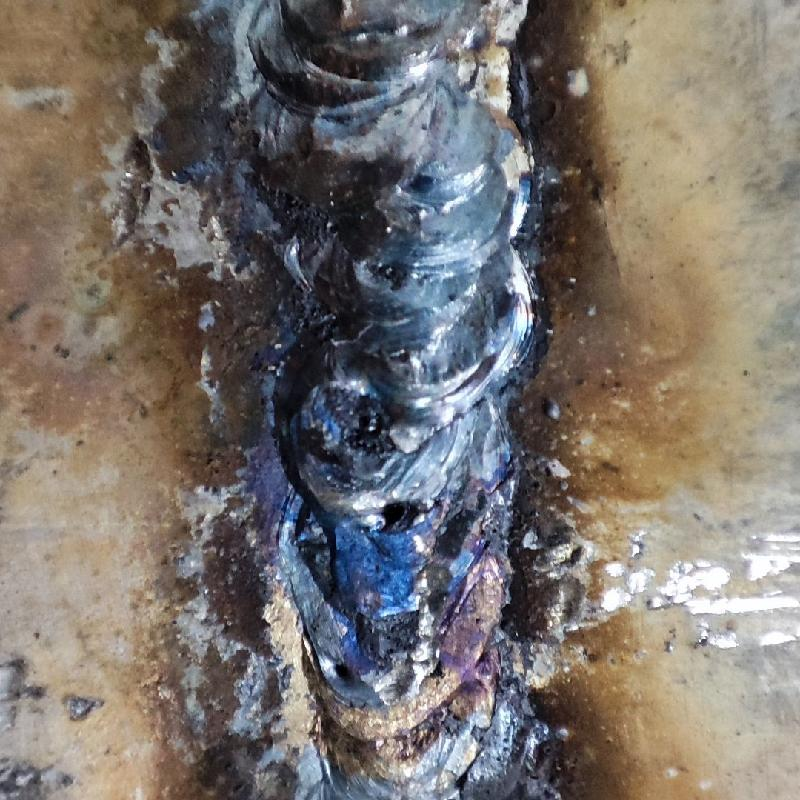Surface_pores: (367, 487, 421, 536), (316, 651, 366, 689)
